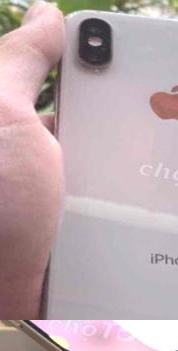scratch: (85, 67, 111, 84)
